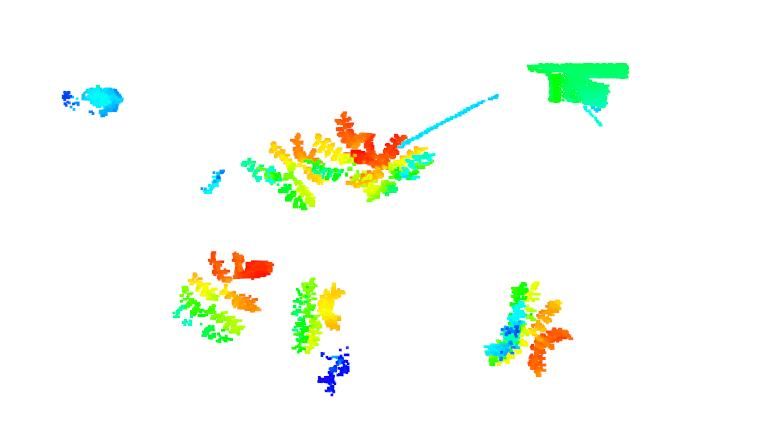chickpea: (313, 113, 443, 202), (171, 251, 276, 343), (482, 281, 573, 377), (241, 131, 343, 212), (289, 275, 345, 354)
